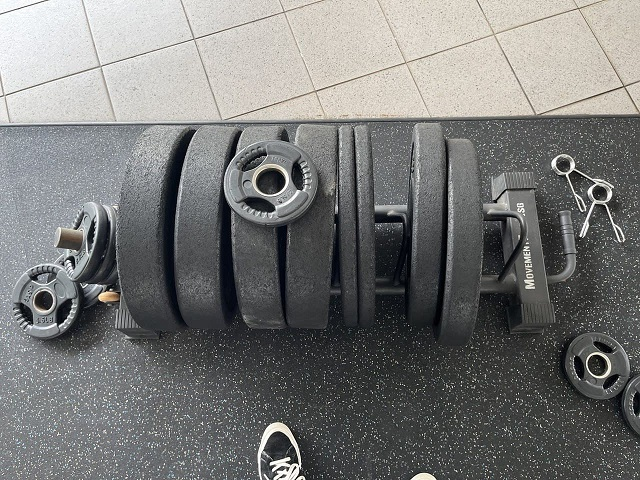weights: (116, 125, 185, 332), (223, 138, 318, 227), (407, 124, 447, 327), (444, 134, 480, 355), (8, 264, 82, 346), (562, 330, 630, 401), (59, 201, 110, 283)
